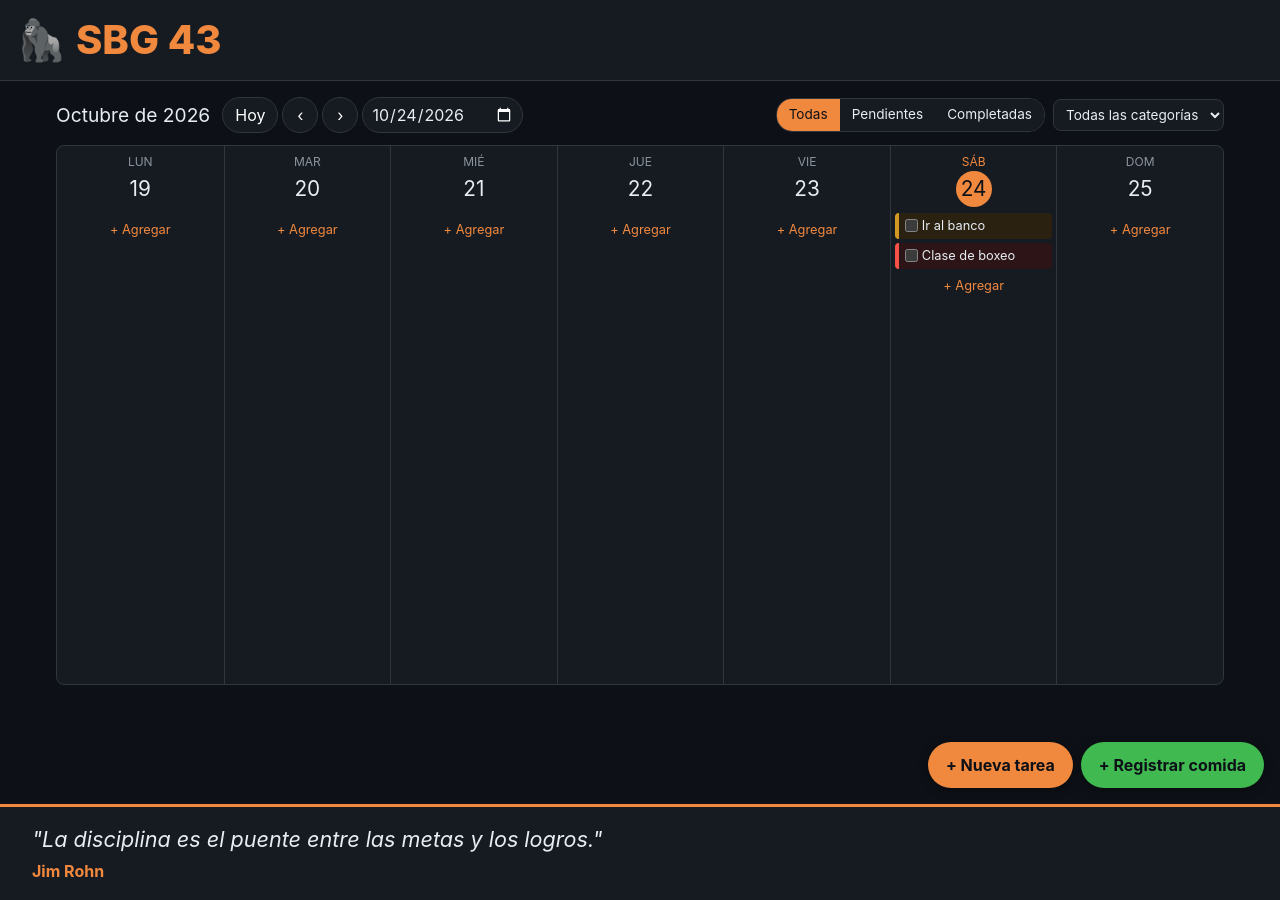
Test case: al completar una tarea desaparece del filtro de pendientes
This screenshot has width=1280, height=900.
Click the checkbox named "Marcar \"Ir al banco\" como completada": (911, 225) [905,219,918,232]
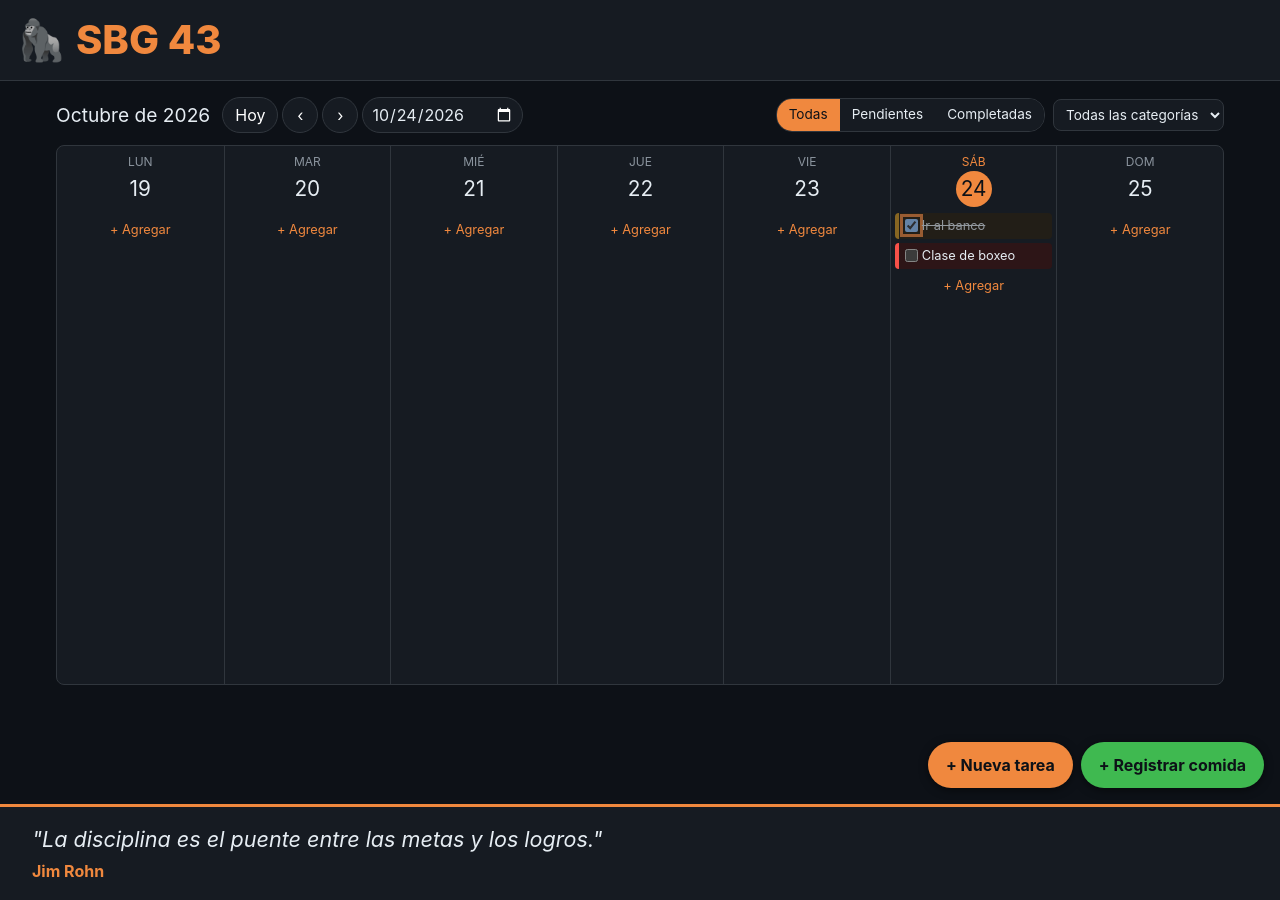
Click the button "Pendientes": (887, 115) [840,100,935,130]
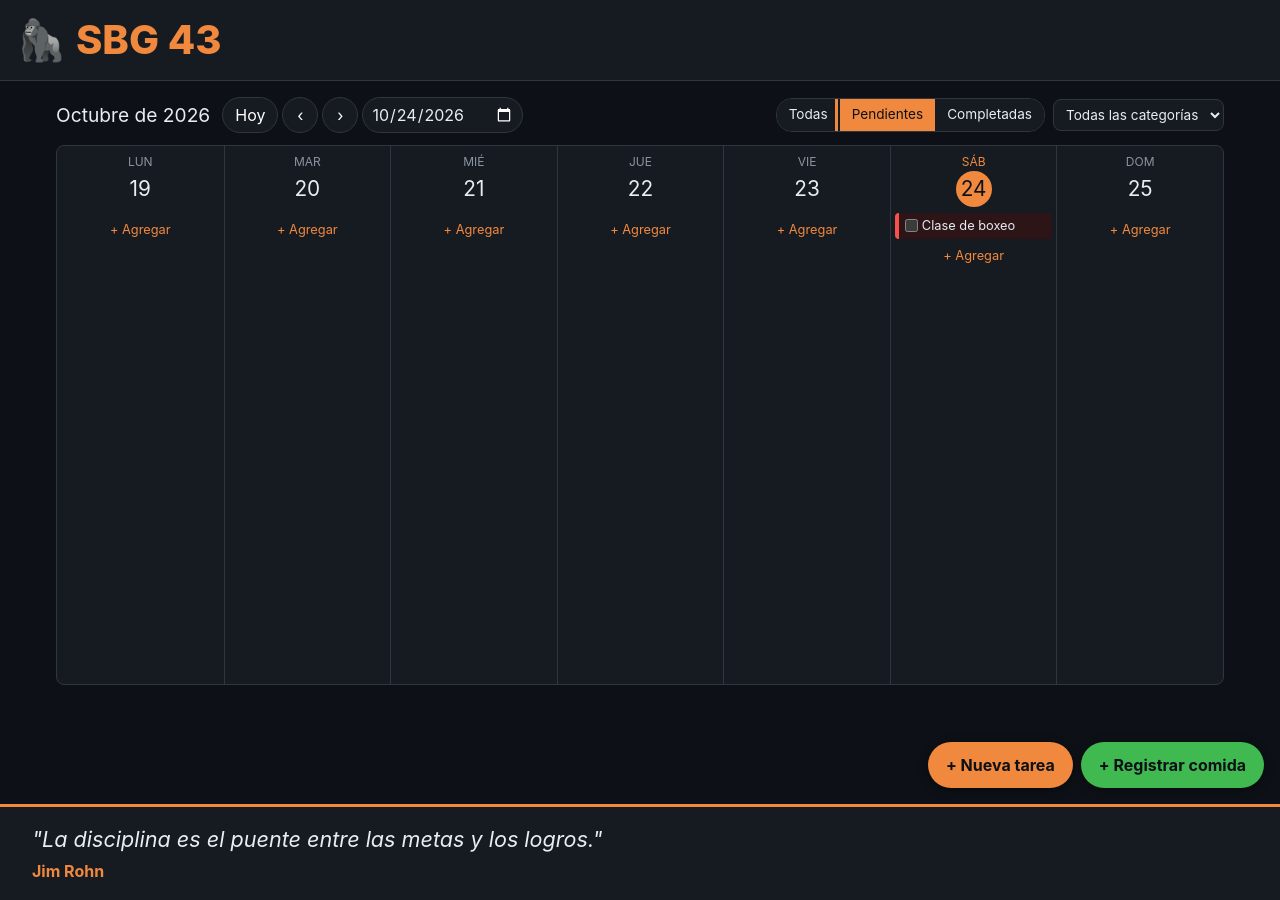
Expected: the link "Clase de boxeo" is shown, [922,218,1015,233]
Result: the link "Ir al banco" is gone
